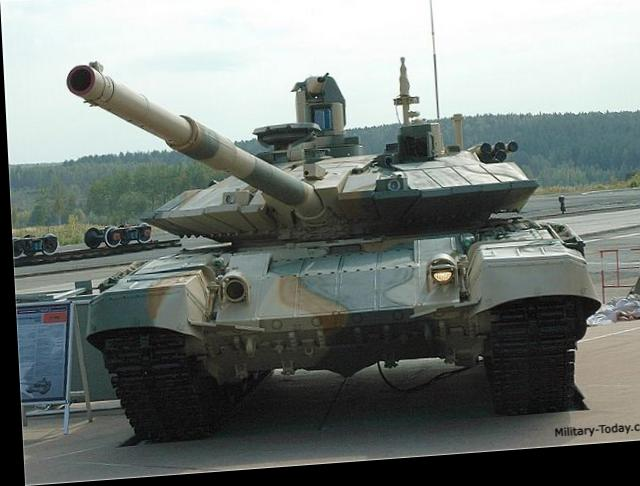tank: (79, 54, 577, 459)
